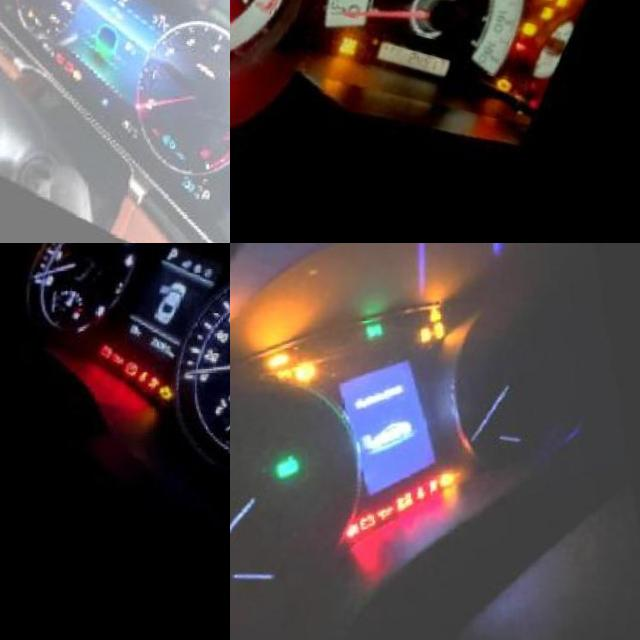Low fuel level: (24, 8, 30, 16)
Seat Belt: (131, 371, 146, 387)
